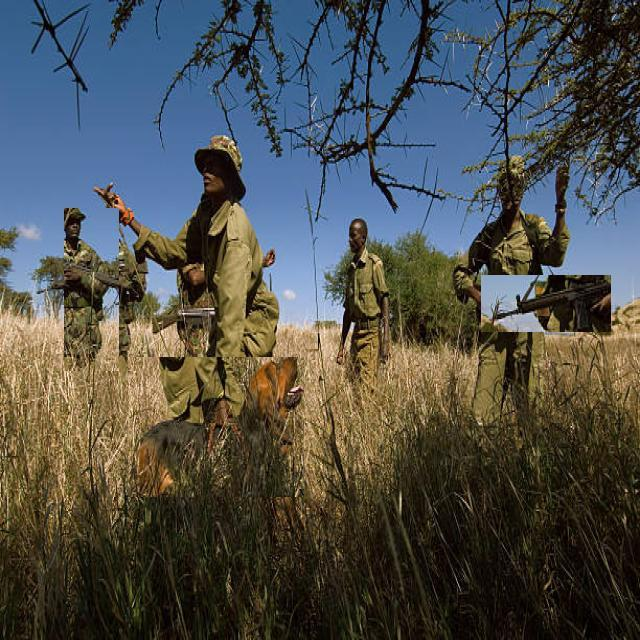p_date: (128, 357, 304, 497)
poacher: (442, 143, 584, 406), (162, 102, 279, 356), (330, 196, 402, 384), (64, 208, 119, 371)
weapon: (481, 275, 611, 332), (36, 260, 128, 300), (149, 305, 226, 340)
